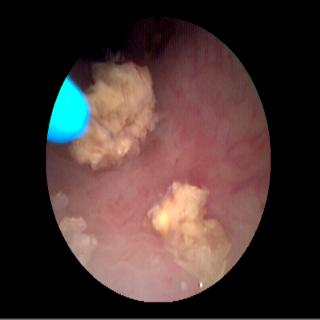fiber: (49, 77, 89, 142)
stone: (72, 60, 158, 169), (154, 184, 230, 284)
tissue: (53, 41, 265, 298)
